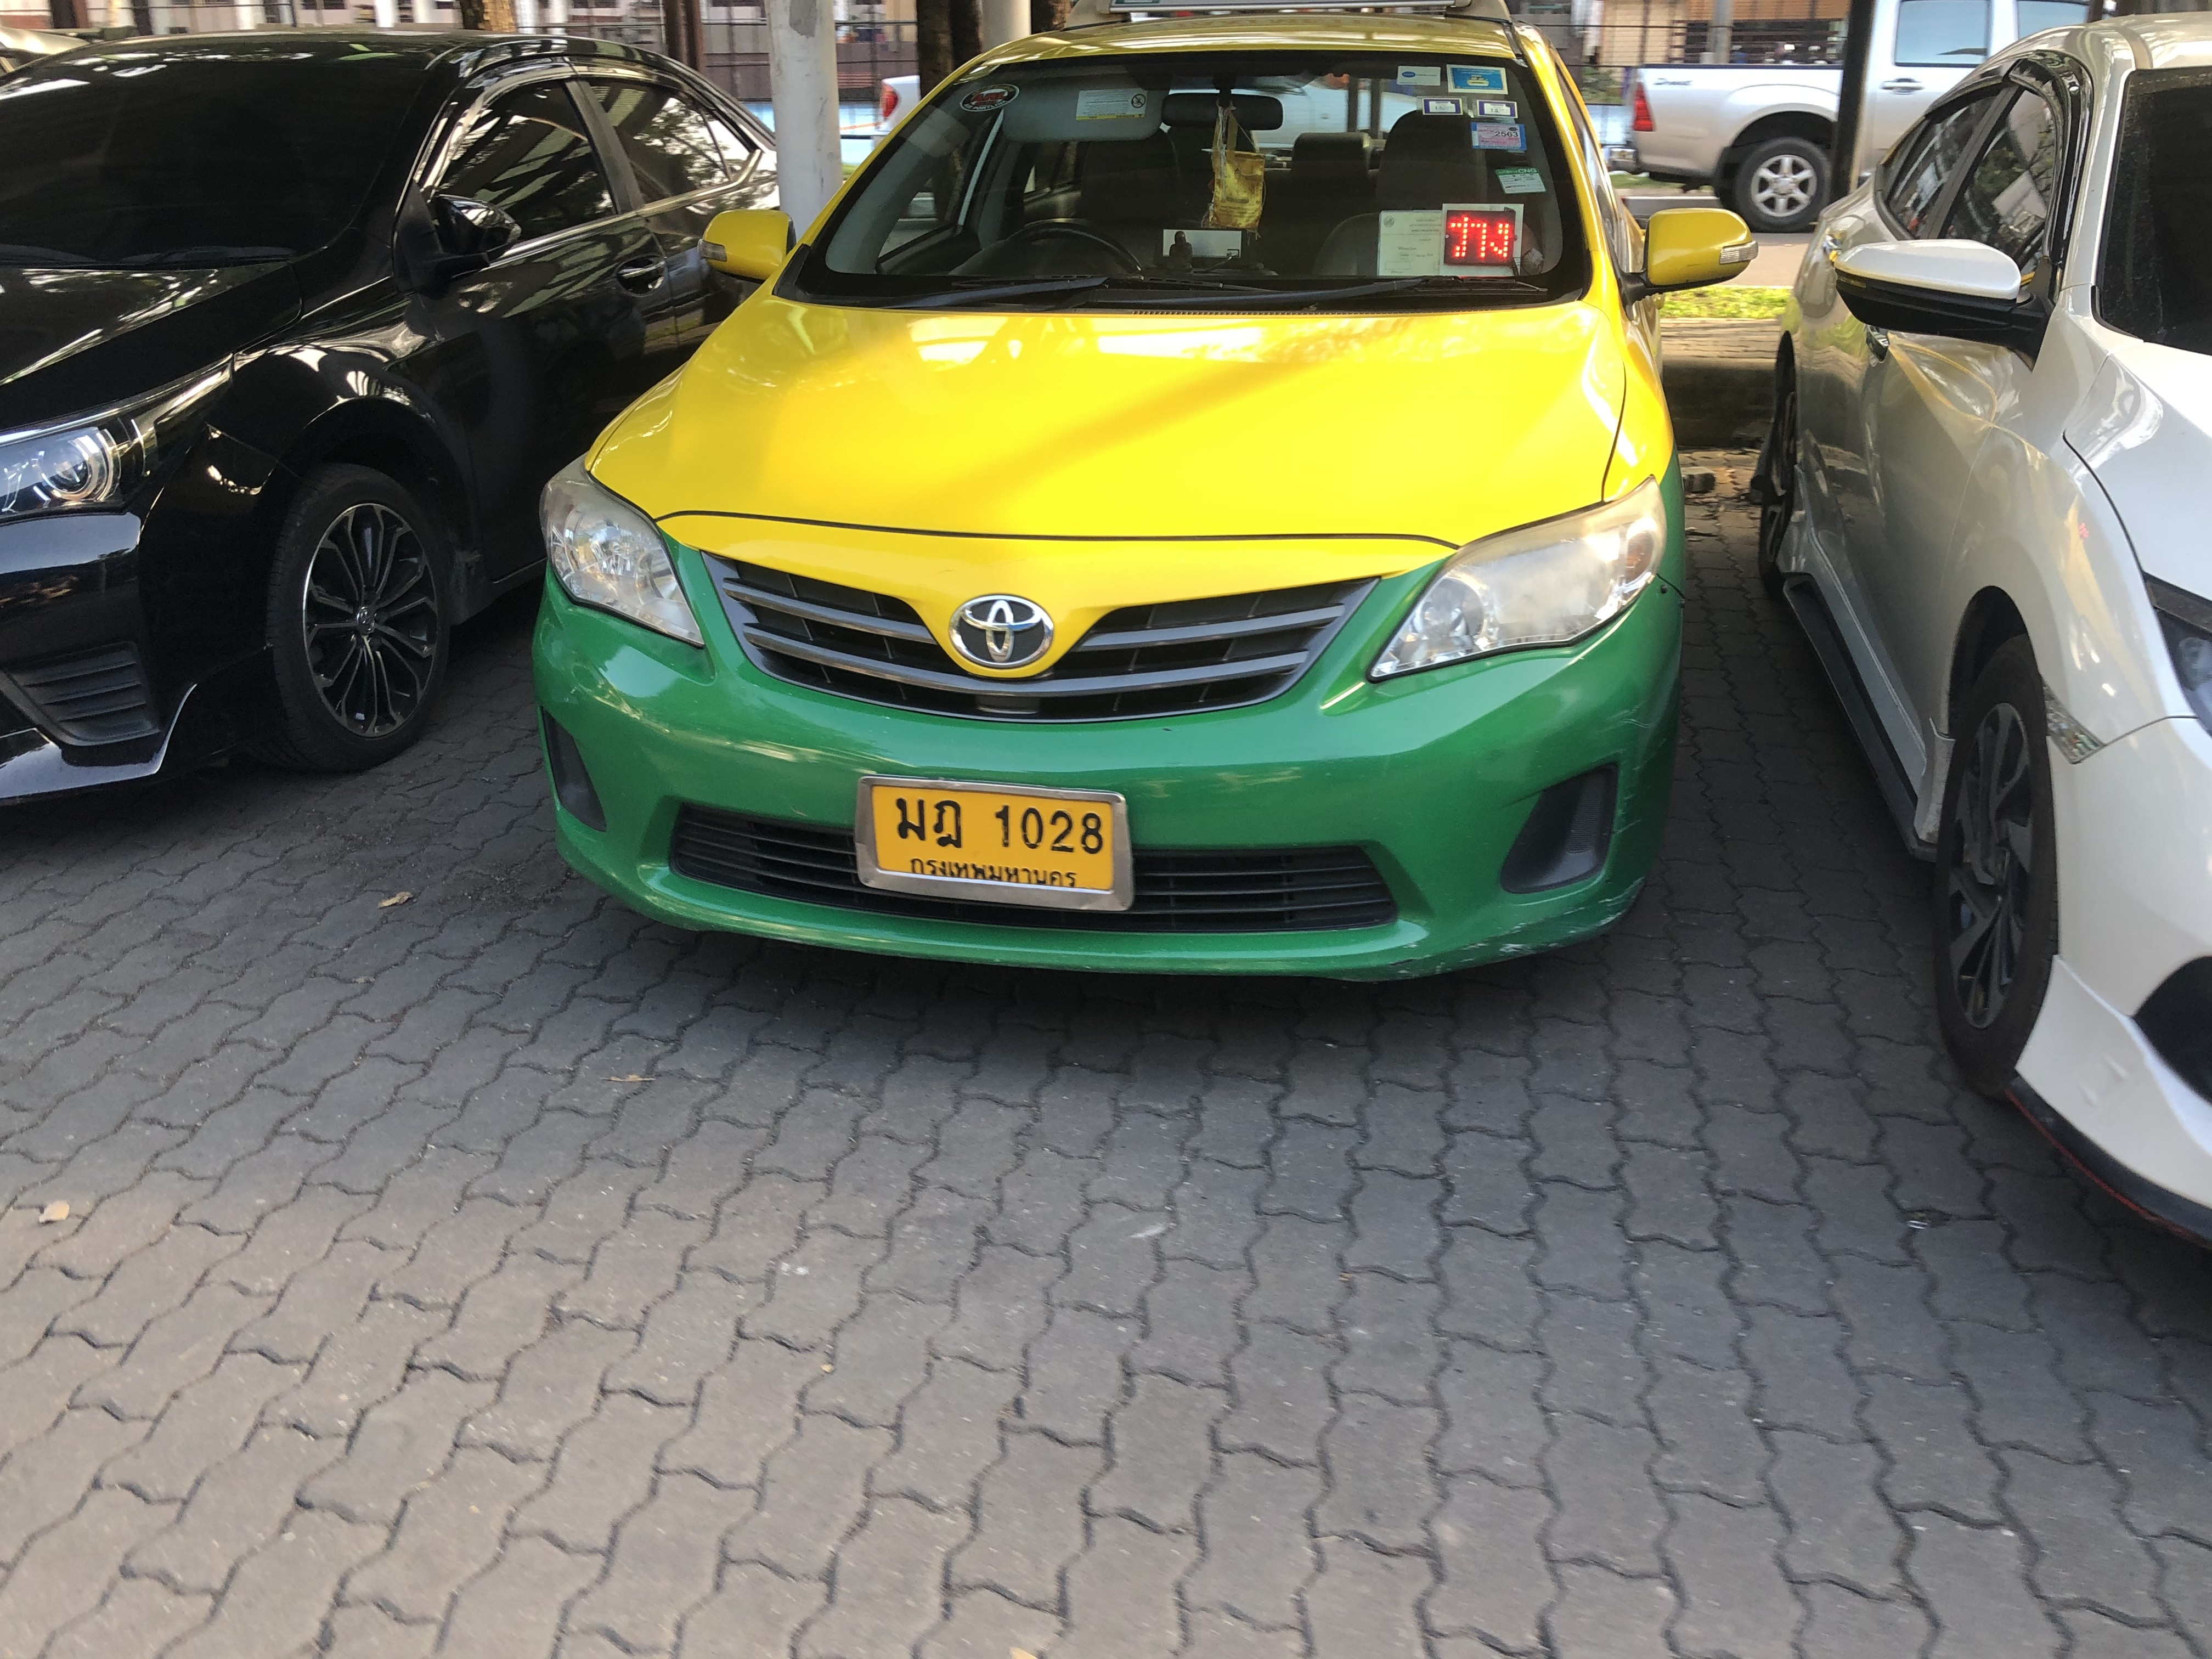in: (869, 784, 1118, 894)
out: (850, 777, 1139, 918)
